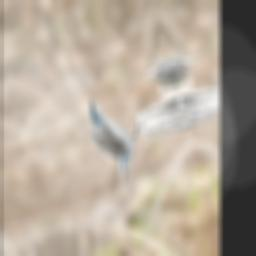Swallow: (79, 87, 157, 201)
